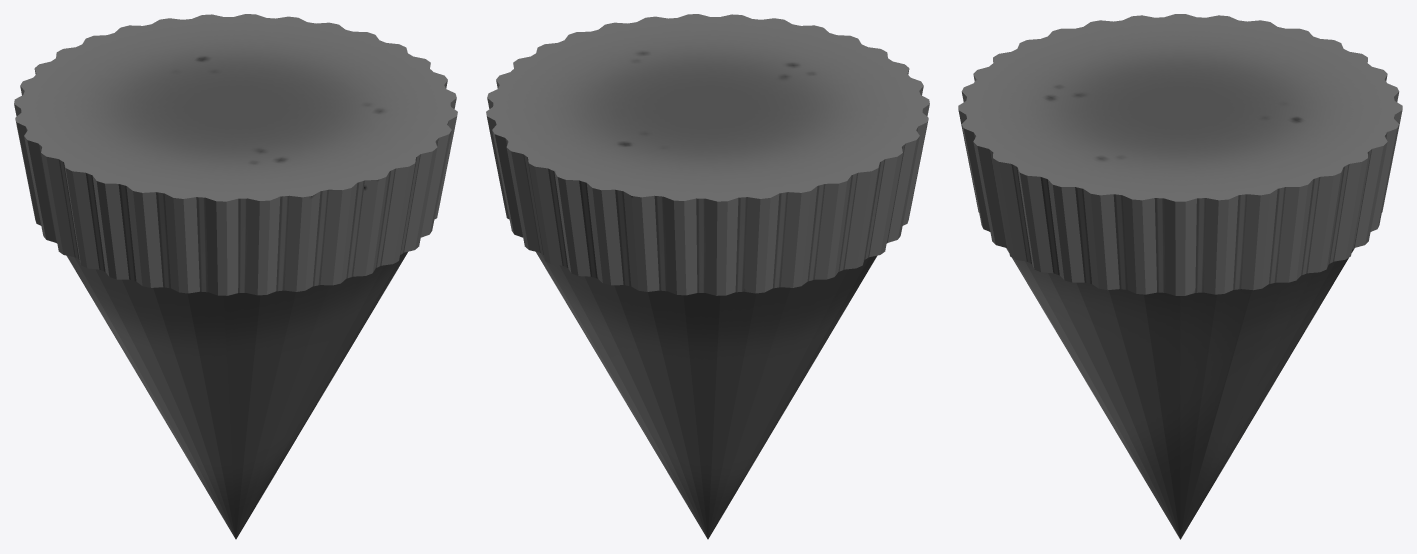
File: level.gltf
The picture shows the model from 3 angles, left to right: view 1: azimuth 30°, elevation 25°; view 2: azimuth 150°, elevation 25°; view 3: azimuth 270°, elevation 25°; orthographic projection.
Parts seen in each view (by area): view 1: Cone; view 2: Cone; view 3: Cone.
Boxes of the visible parts, <box> form: Cone: <box>14,14,457,539</box>; Cone: <box>486,14,929,539</box>; Cone: <box>958,14,1402,539</box>.
Size of the model in its own units: 2.33 by 2.5 by 2.33.
1 material, 1 textured.
